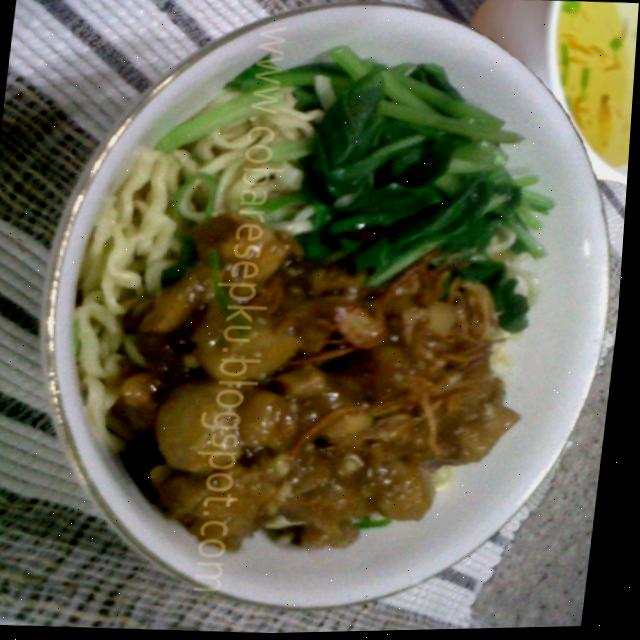面条主食: (49, 15, 607, 592)
